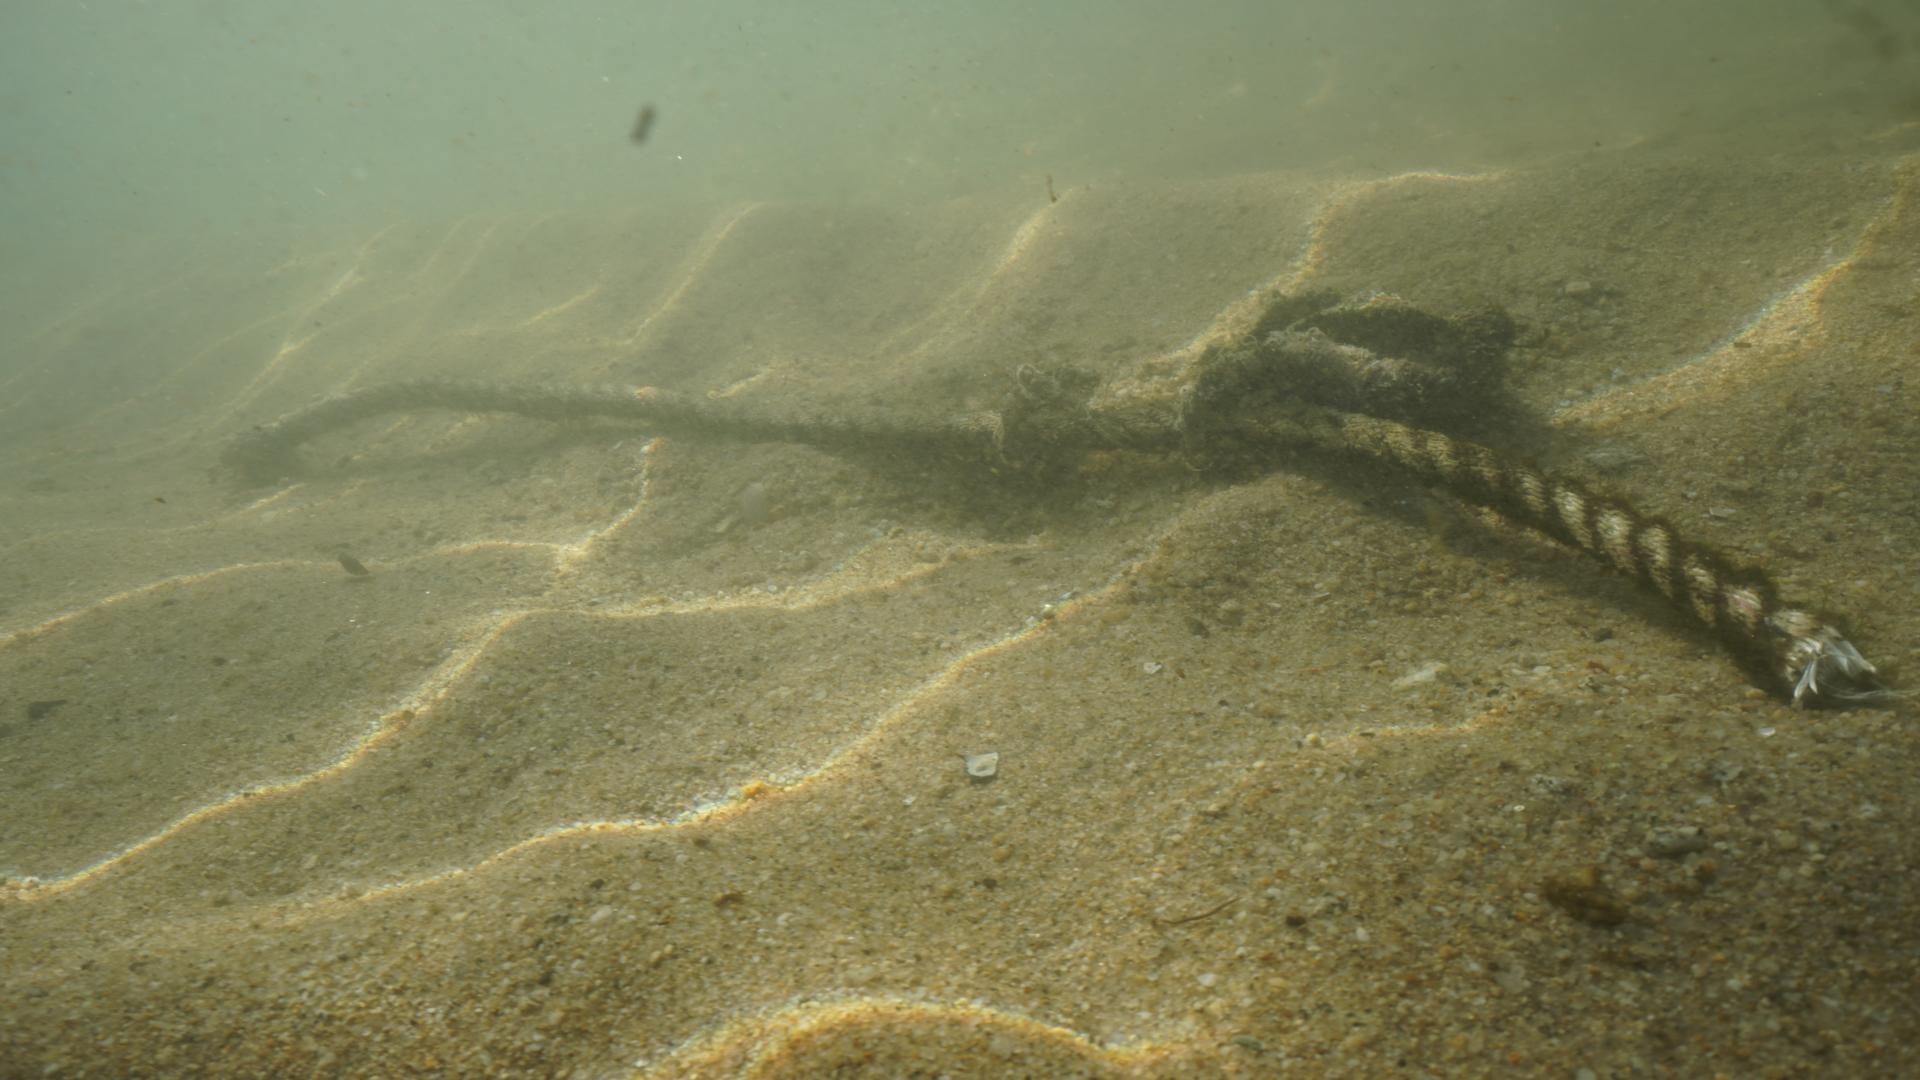rope: (229, 372, 1824, 665)
